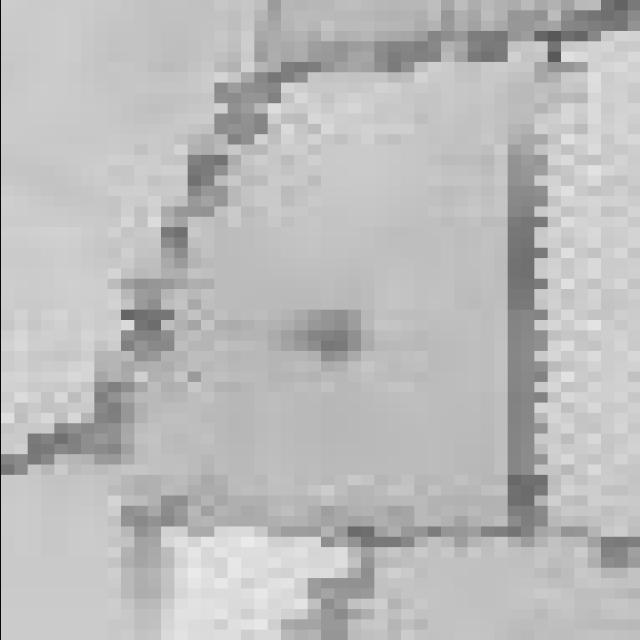good_void: (287, 307, 371, 366)
